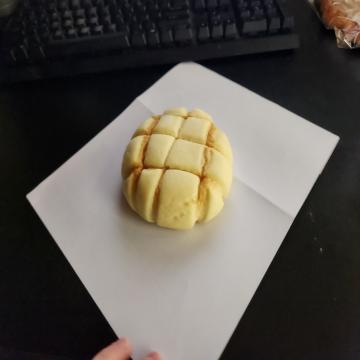melon_bread: (122, 108, 234, 227)
